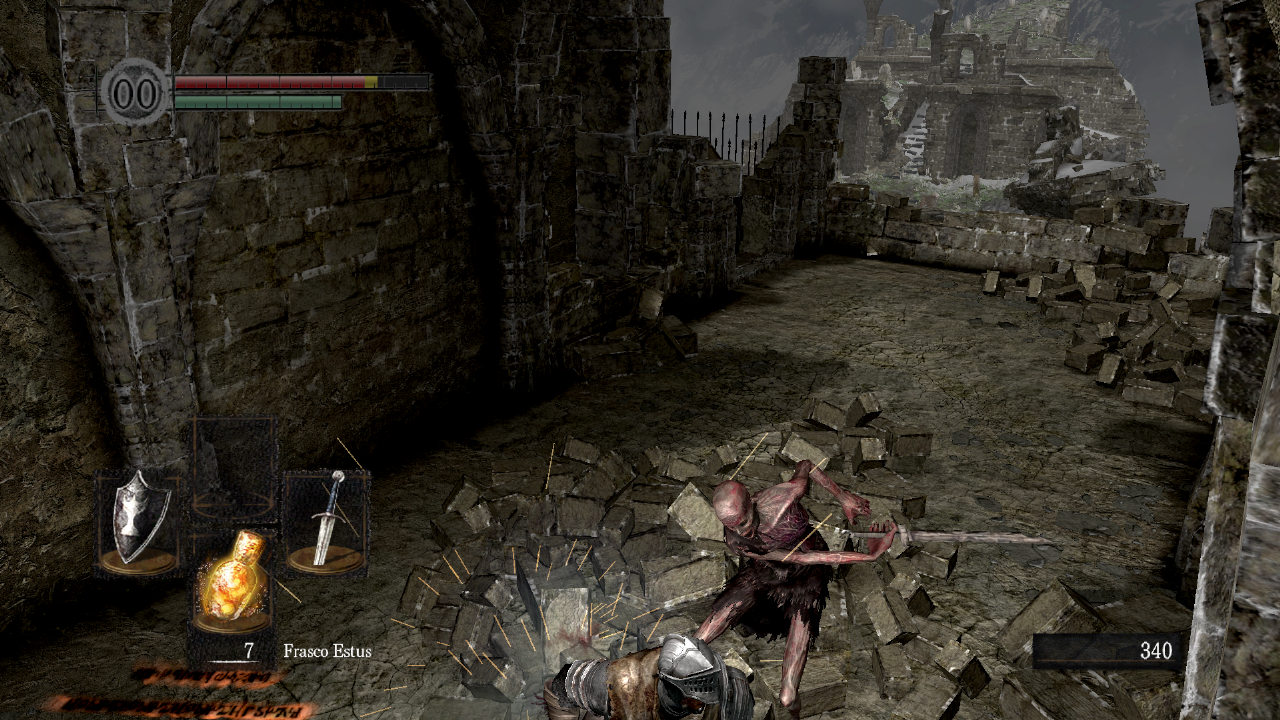hollow: (692, 459, 1057, 720)
player: (543, 630, 758, 720)
